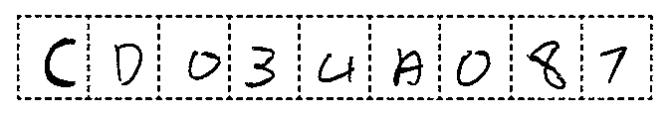0: (451, 44, 496, 90), (181, 45, 222, 86)
3: (240, 42, 279, 89)
4: (310, 51, 363, 89)
7: (596, 42, 631, 85)
8: (523, 36, 569, 94)
A: (386, 41, 428, 90)
C: (37, 33, 83, 92)
D: (105, 40, 150, 89)
